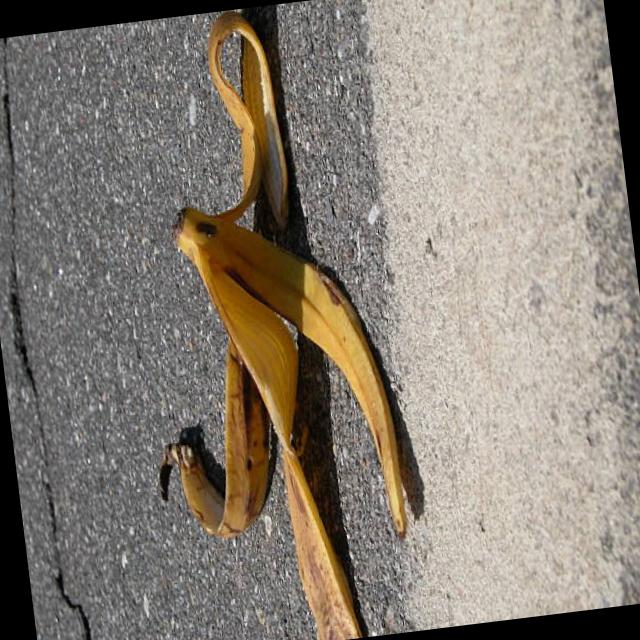banana_peel: (143, 6, 412, 640)
